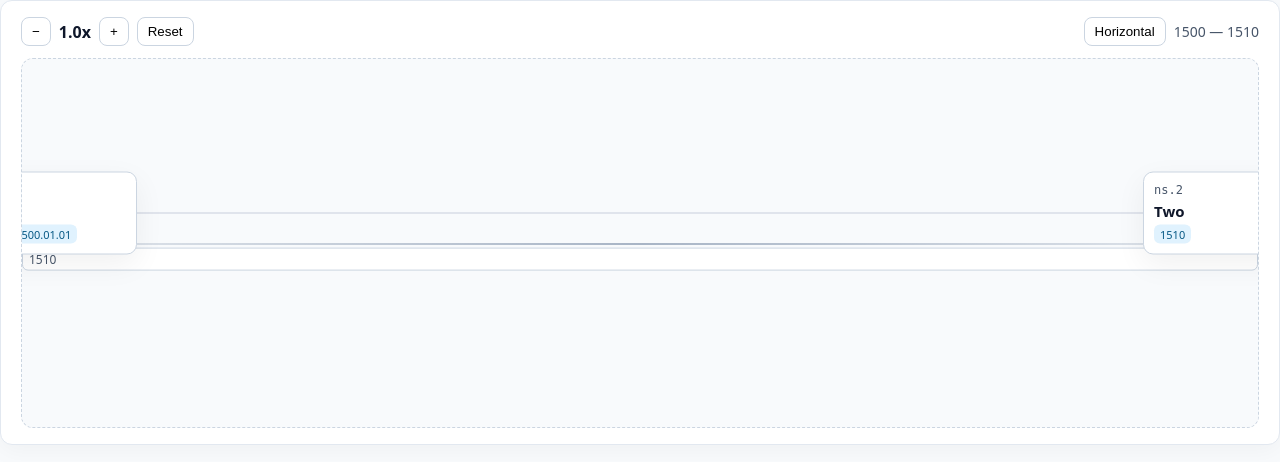
Timeline component › toggles orientation
Click the button with aria-label "toggle orientation" at (1125, 32), box [1084,17,1166,46]
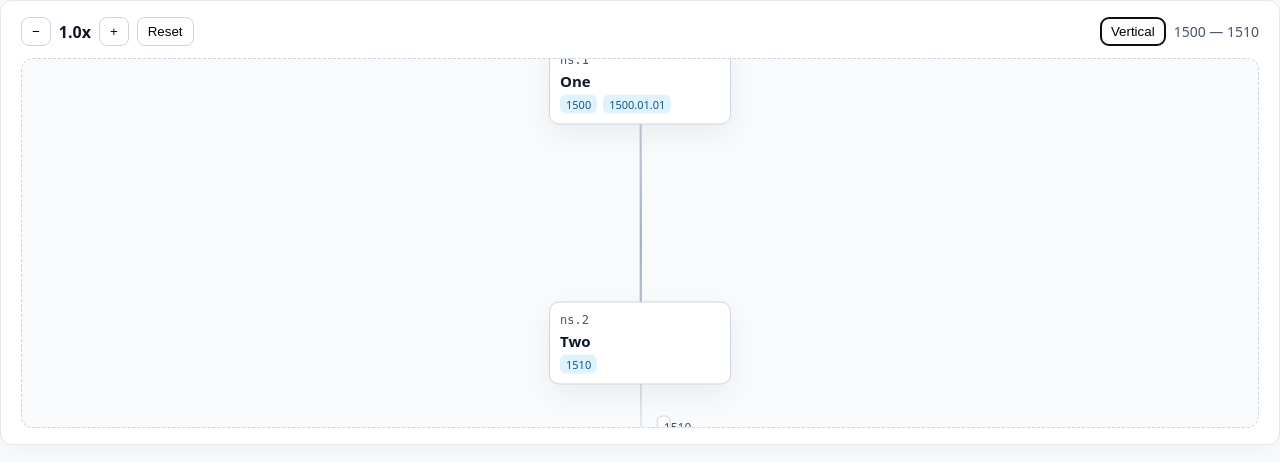
Expected: the button with aria-label "toggle orientation" reads "Vertical", [1100,17,1166,46]
